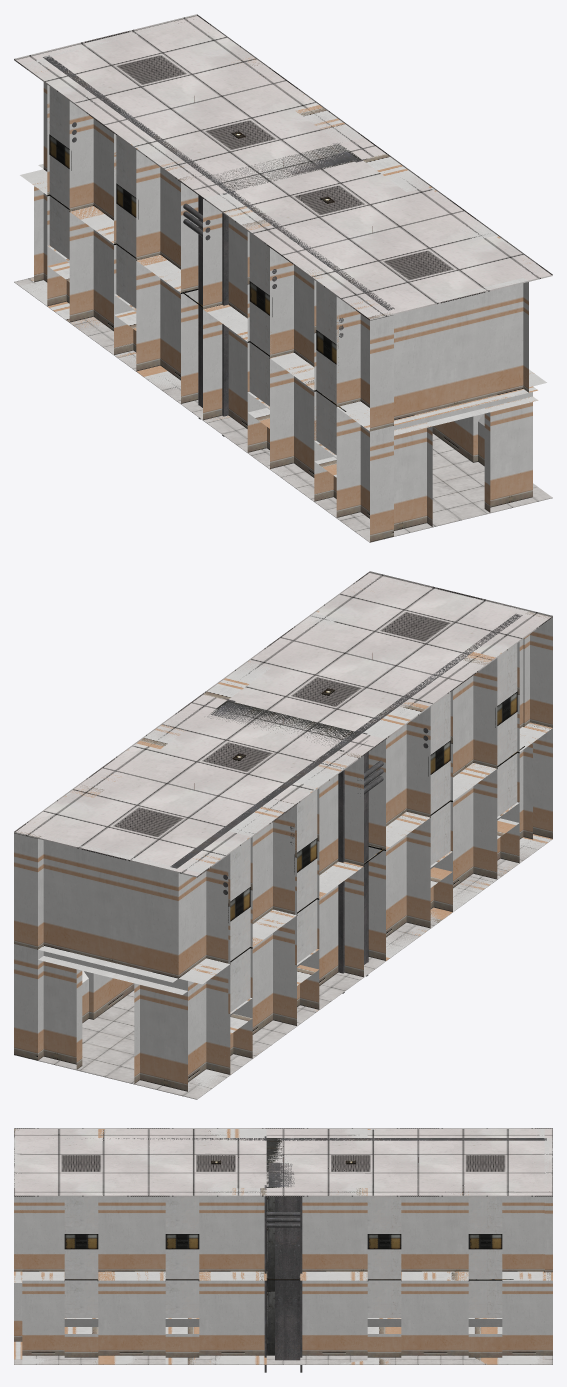
File: RZ_room2_tesla.obj
3 renders of one model, top to bottom at view 1: azimuth 30°, elevation 25°; view 2: azimuth 150°, elevation 25°; view 3: azimuth 270°, elevation 25°, orthographic. The views are drawn at different scales.
Visible parts, largest first — view 1: room2tesla; view 2: room2tesla; view 3: room2tesla.
Boxes of the visible parts, box(x1,y1,x2,y2) form: room2tesla: box(14, 14, 552, 542); room2tesla: box(14, 571, 552, 1099); room2tesla: box(14, 1128, 552, 1372).
Bounding box in the file's own units: 6.08 × 7.91 × 20.48.
